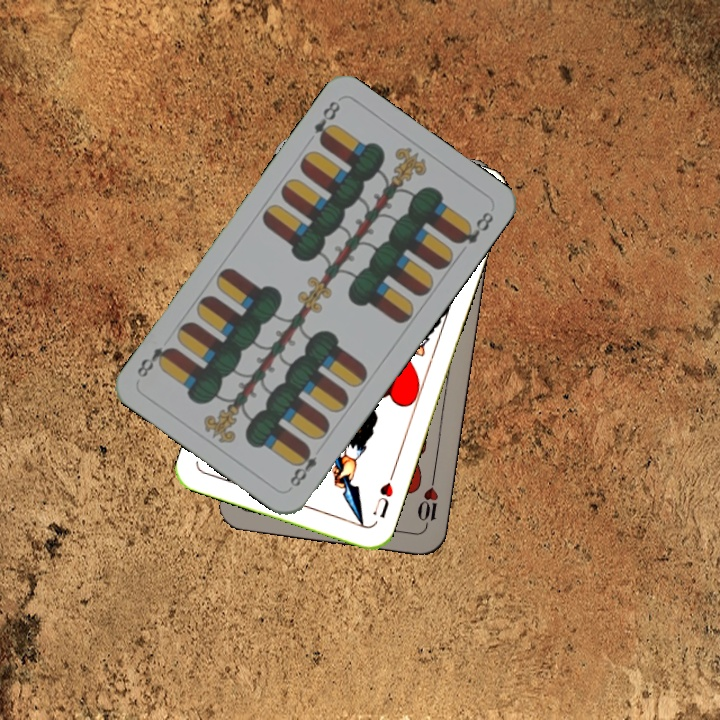E8: (309, 96, 343, 148), (285, 442, 320, 492)
H10: (413, 472, 441, 531)
HU: (369, 468, 397, 521)
